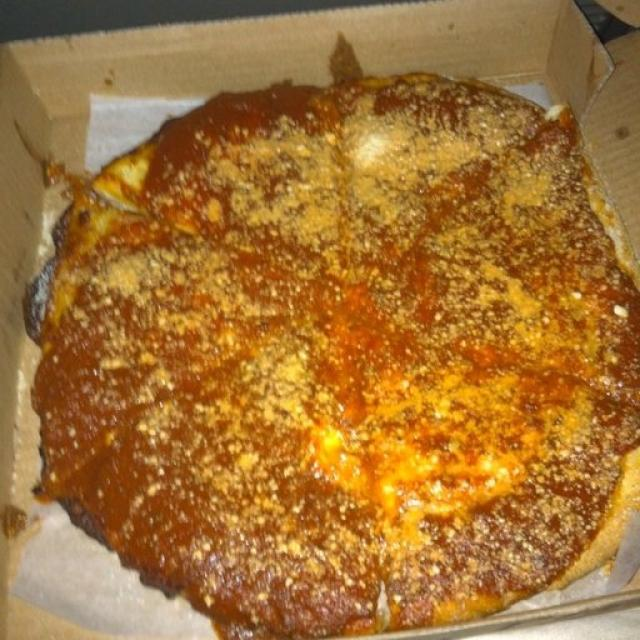Nutella: (45, 98, 631, 627)
Pizza: (31, 78, 640, 640)
